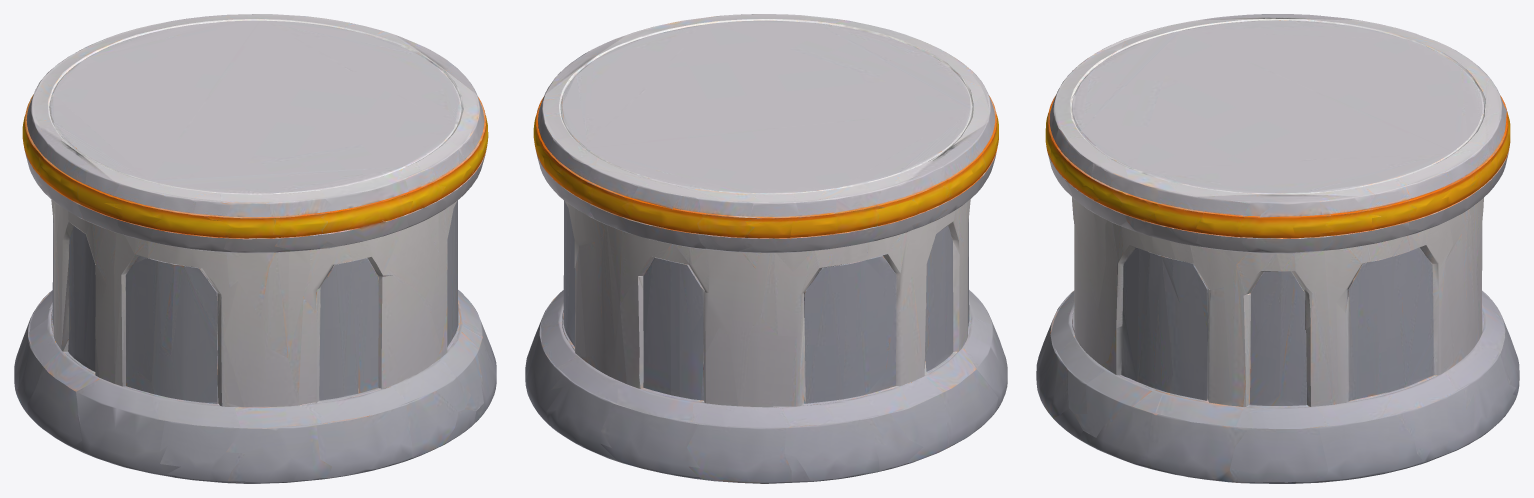
The model's file is p_podium.glb.
3 renders of one model, left to right at view 1: azimuth 30°, elevation 25°; view 2: azimuth 150°, elevation 25°; view 3: azimuth 270°, elevation 25°, orthographic.
Bounding box in the file's own units: 1.9 × 1.2 × 1.9.
1 material, 1 textured.
